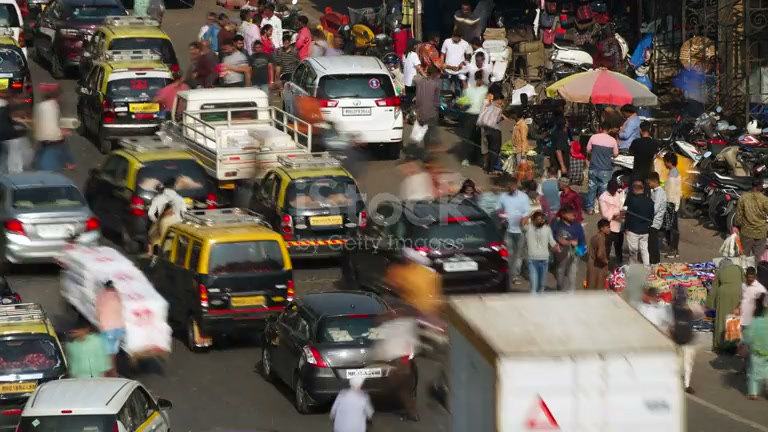car: (255, 289, 422, 417), (149, 206, 296, 351), (355, 197, 511, 294), (85, 139, 216, 254), (249, 153, 368, 263), (281, 55, 404, 157), (0, 170, 101, 270), (75, 61, 178, 154), (14, 376, 173, 432), (0, 301, 70, 427), (29, 0, 131, 80), (0, 45, 33, 129), (0, 1, 27, 49)
pedestrian: (497, 176, 531, 285), (95, 278, 128, 378), (523, 209, 559, 297), (584, 121, 619, 211), (733, 177, 768, 263), (621, 178, 655, 266), (551, 205, 585, 292), (329, 375, 375, 432), (598, 178, 626, 269), (476, 92, 506, 174), (647, 171, 669, 264), (585, 219, 611, 290)
